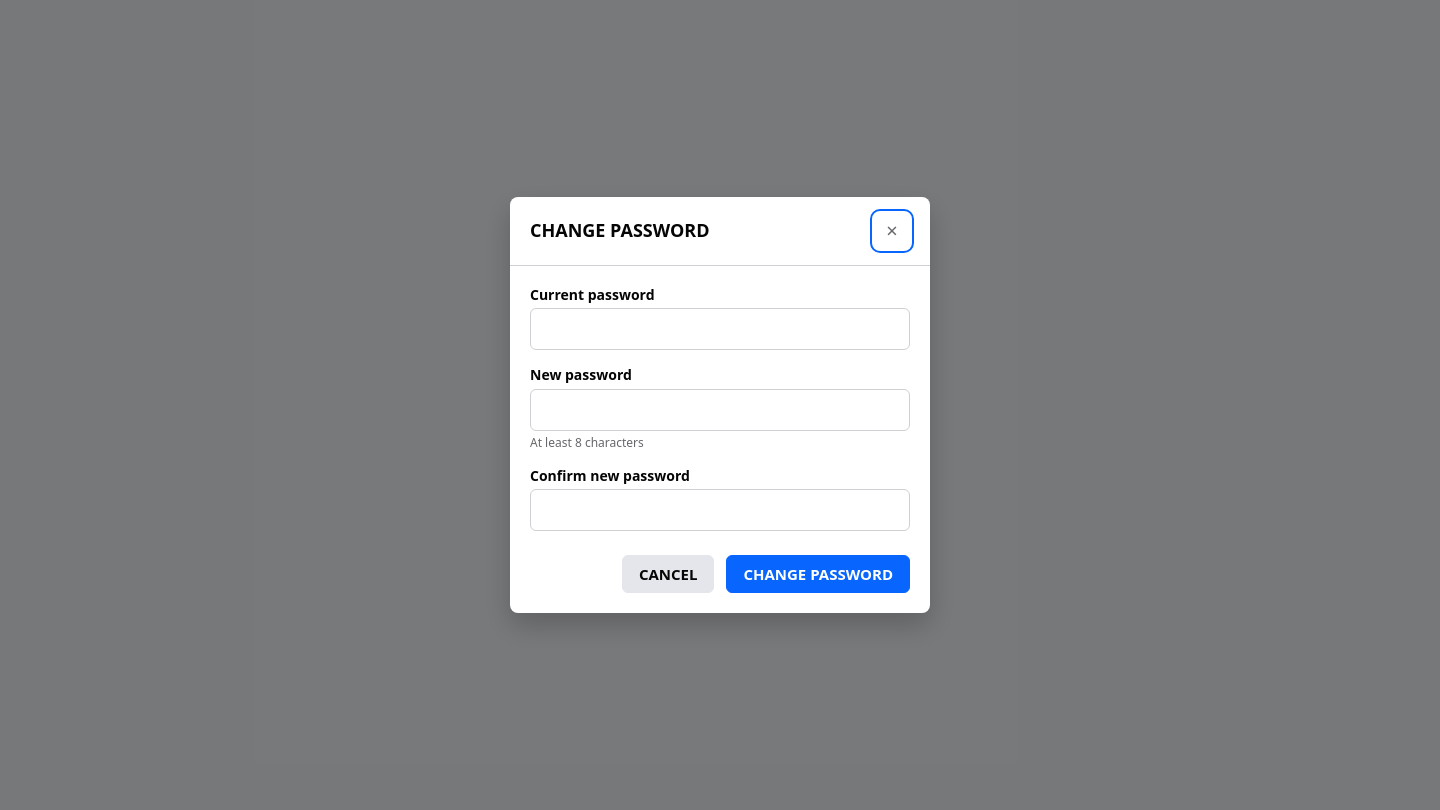
Test case: ChangePasswordModal › rejects short new password
Type "old-pass-123" into the password field labelled "Current password".
click(720, 329); type("old-pass-123")  # box left=530, top=308, right=910, bottom=350
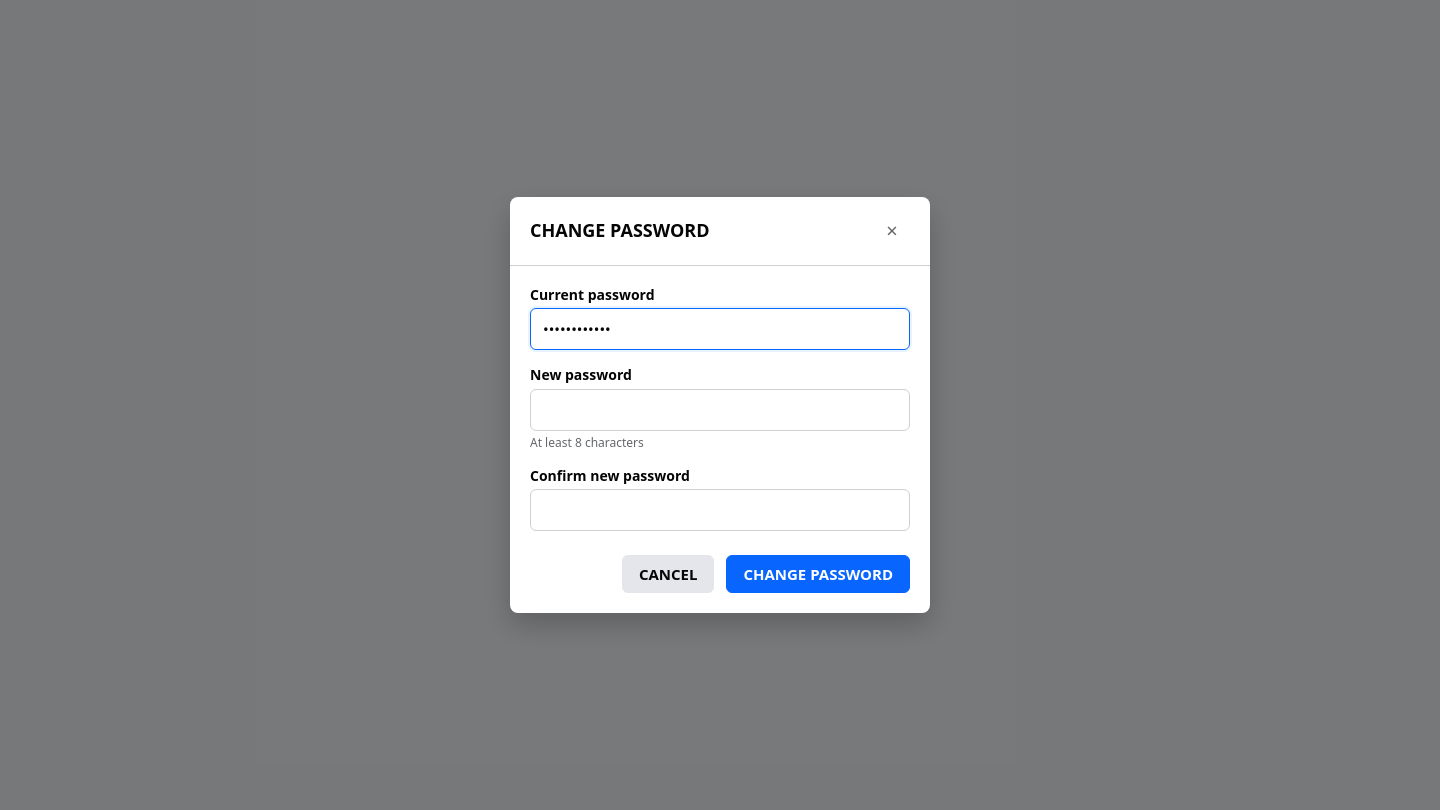
Type "short" into the password field labelled "New password".
click(720, 410); type("short")  # box left=530, top=389, right=910, bottom=431
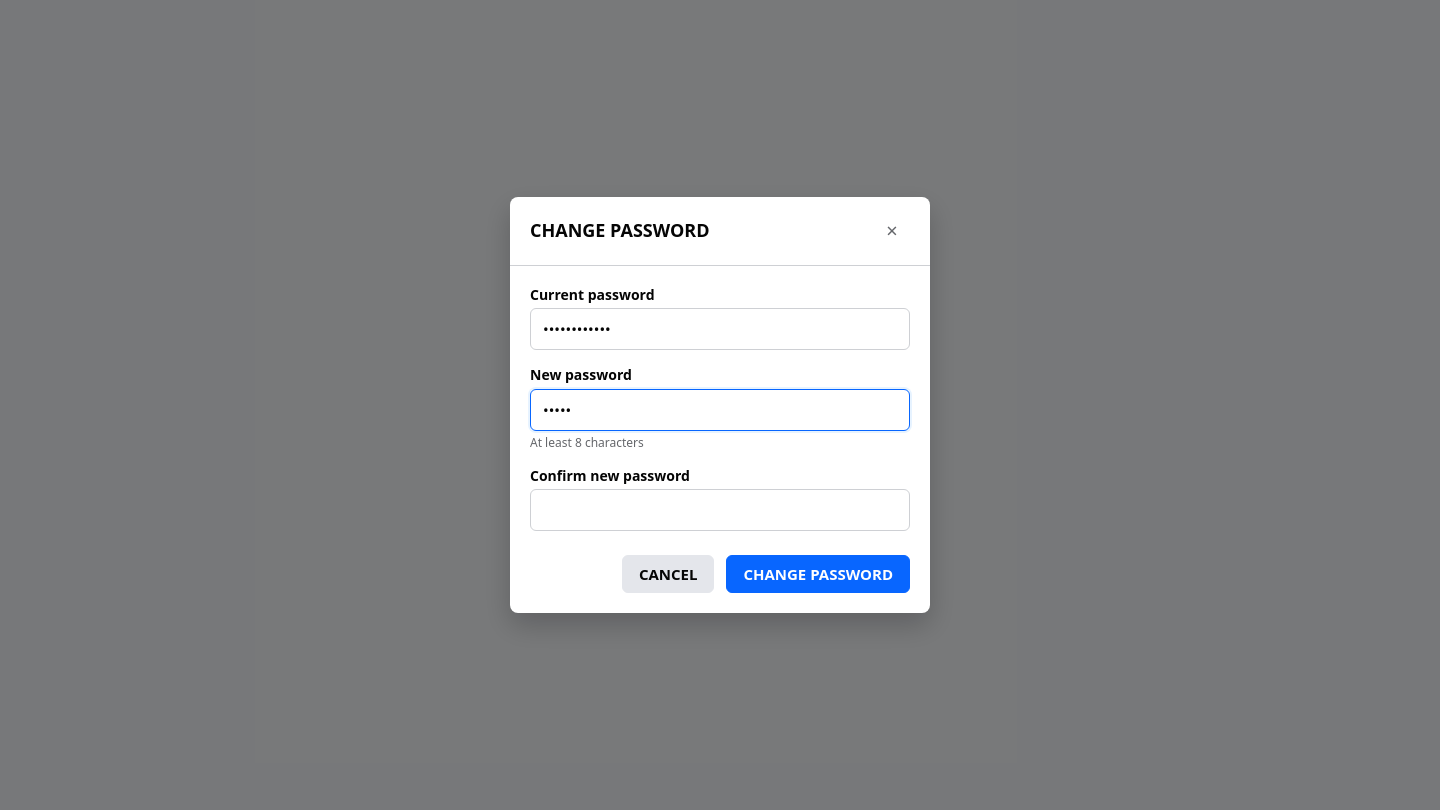
Type "short" into the password field labelled "Confirm new password".
click(720, 510); type("short")  # box left=530, top=490, right=910, bottom=532
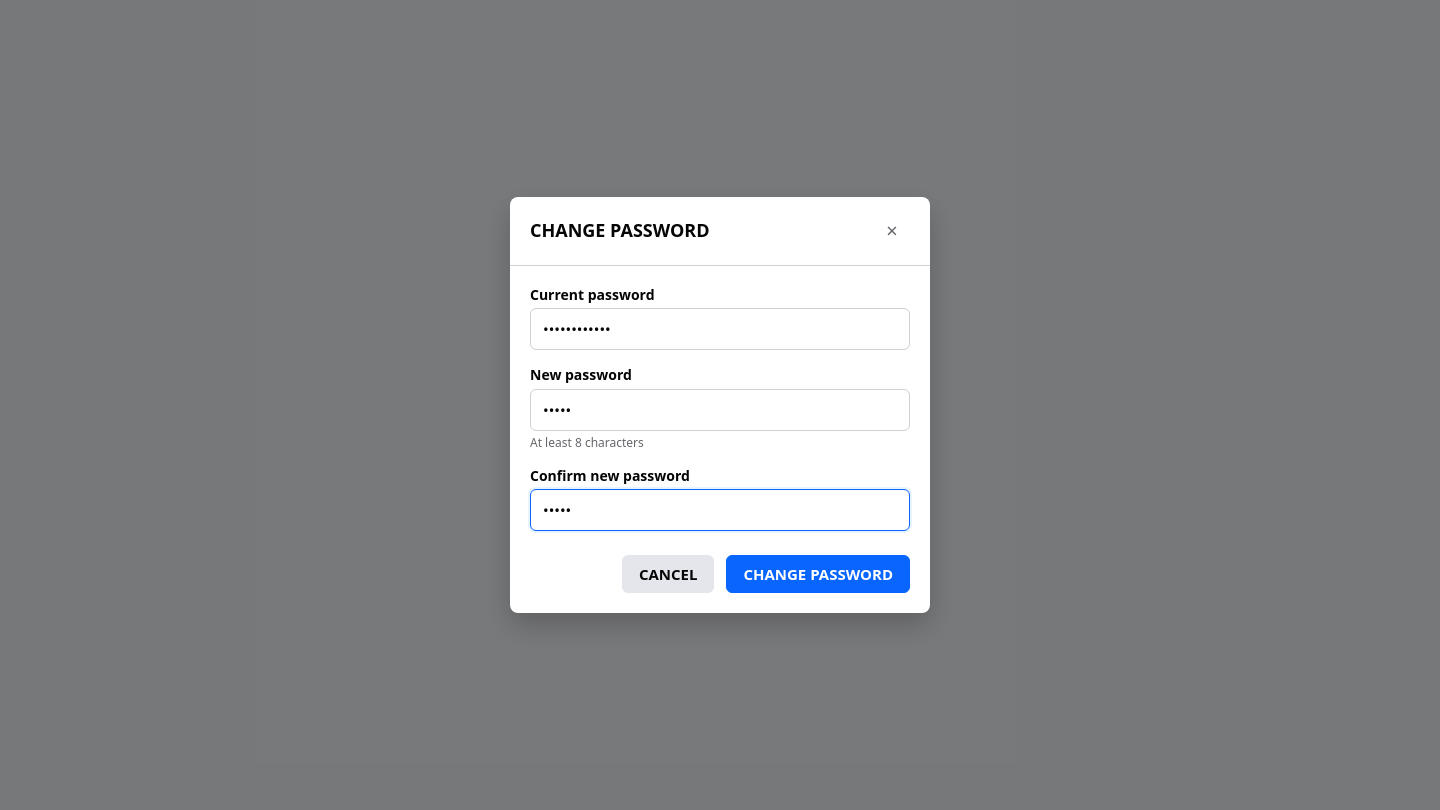
Click the button "Change password".
click(818, 574)  # box left=726, top=556, right=910, bottom=594
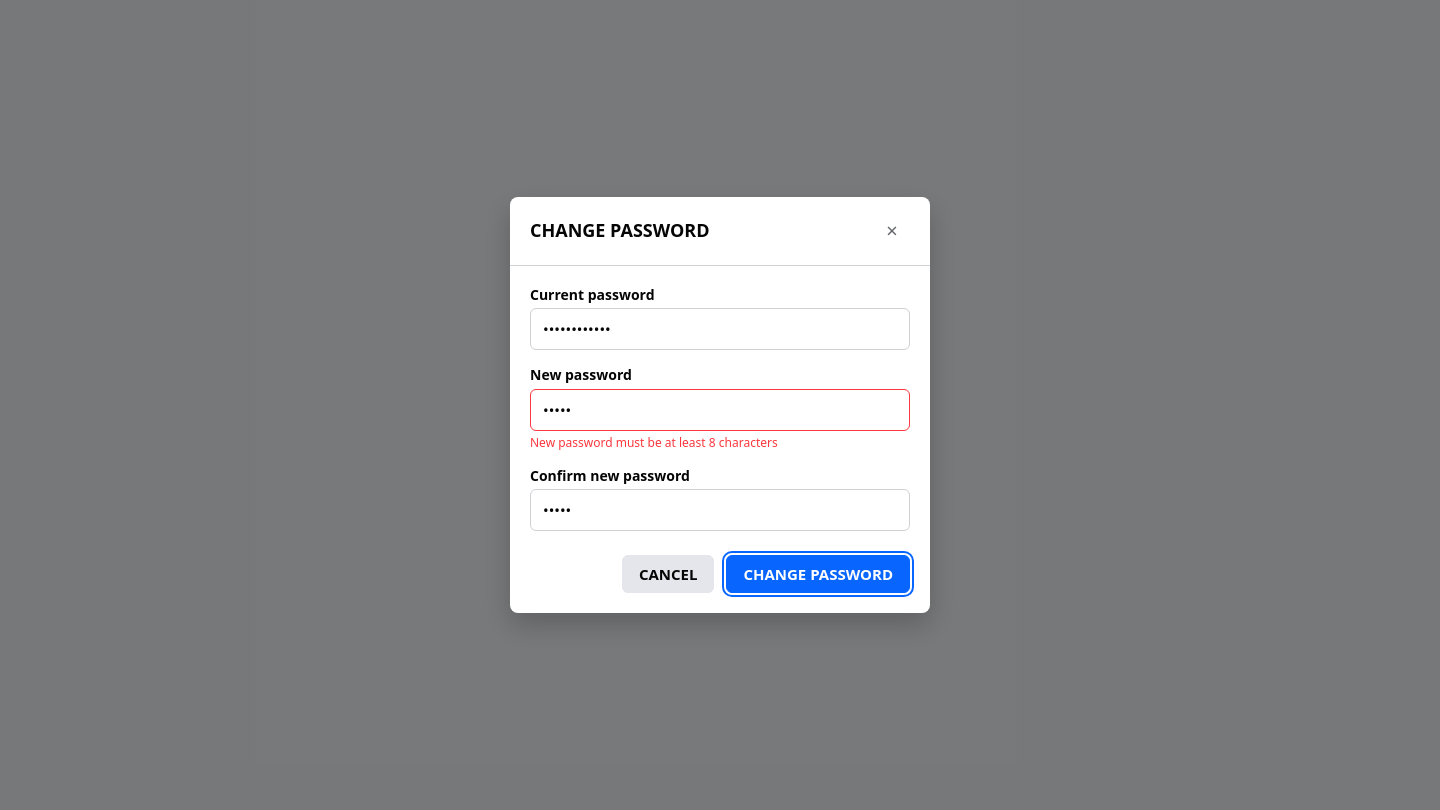
Now the text "New password must be at least 8 characters" is shown, box left=530, top=434, right=778, bottom=451
